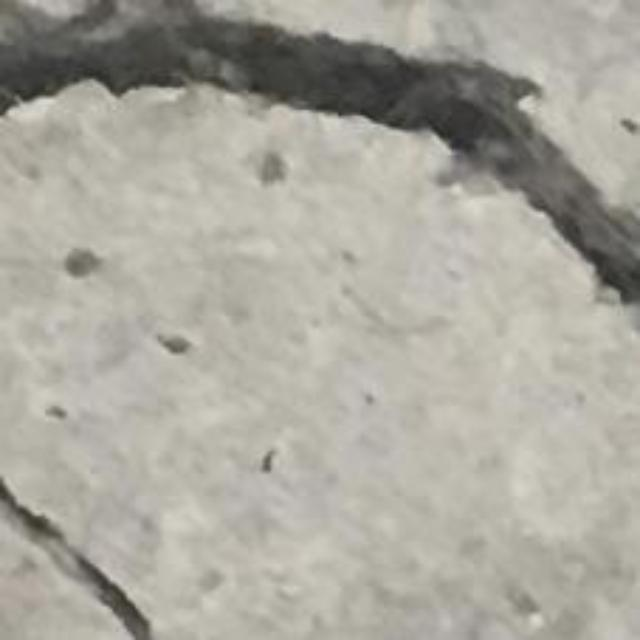crack: (0, 0, 639, 304)
